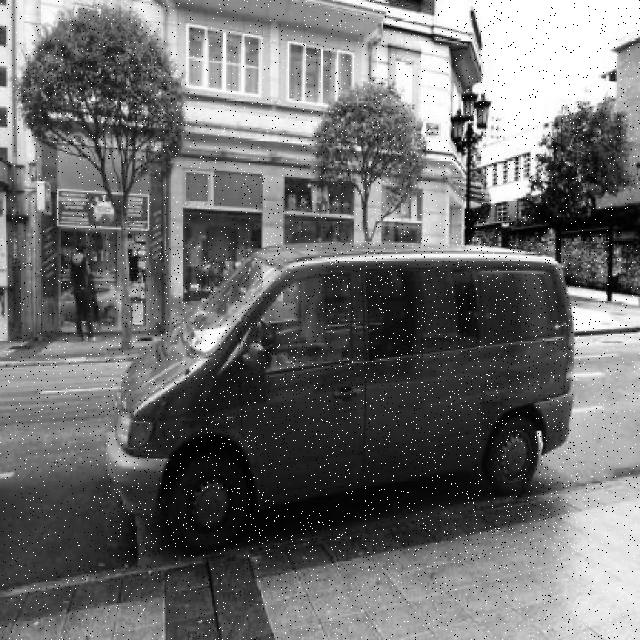Van: (106, 243, 577, 557)
